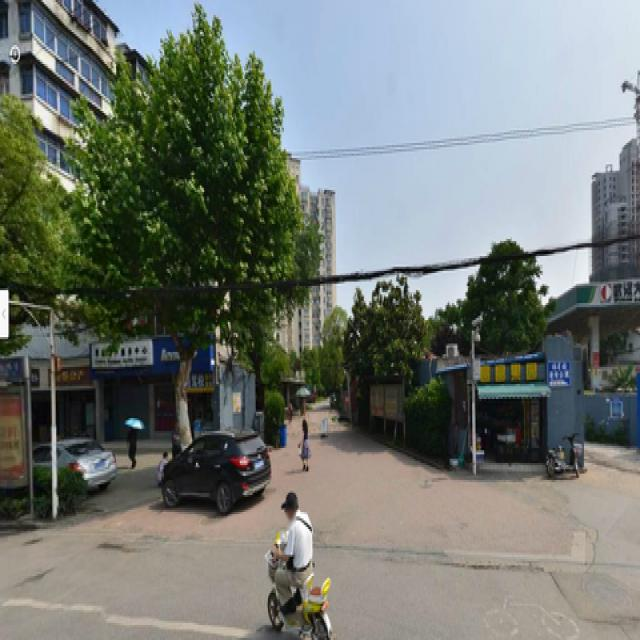meta: (123, 56, 257, 440)
